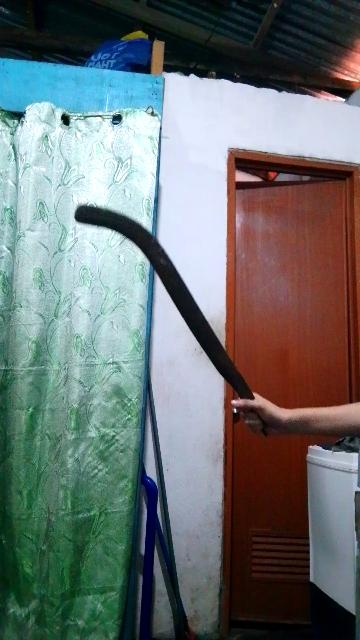long knife: (60, 191, 274, 443)
